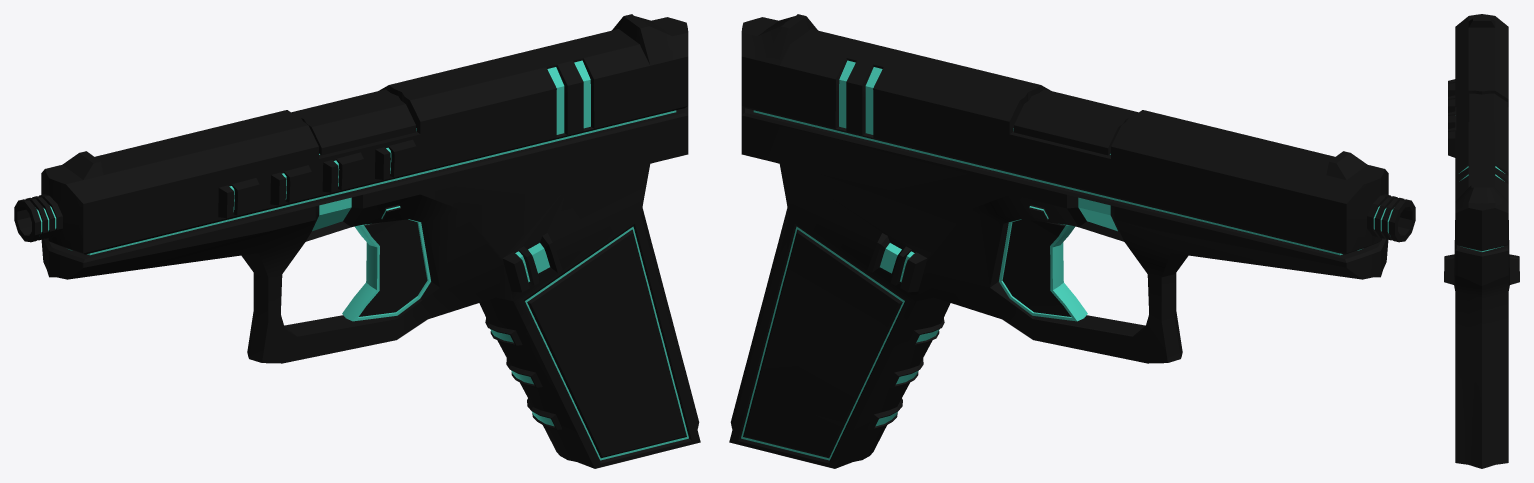
The model's file is Pistol.fbx.
3 views of the same model, side by side, from view 1: azimuth 30°, elevation 25°; view 2: azimuth 150°, elevation 25°; view 3: azimuth 270°, elevation 25° (orthographic). The views are drawn at different scales.
Parts seen in each view (by area): view 1: Gun, Gun_Piece_1; view 2: Gun; view 3: Gun, Gun_Piece_1.
Boxes of the visible parts, x1=… form: Gun: x1=14, y1=14, x2=700, y2=468; Gun_Piece_1: x1=218, y1=139, x2=417, y2=218; Gun: x1=729, y1=14, x2=1415, y2=468; Gun: x1=1444, y1=14, x2=1519, y2=468; Gun_Piece_1: x1=1448, y1=79, x2=1455, y2=157.
Size of the model in its own units: 4.39 by 2.6 by 0.6768.
